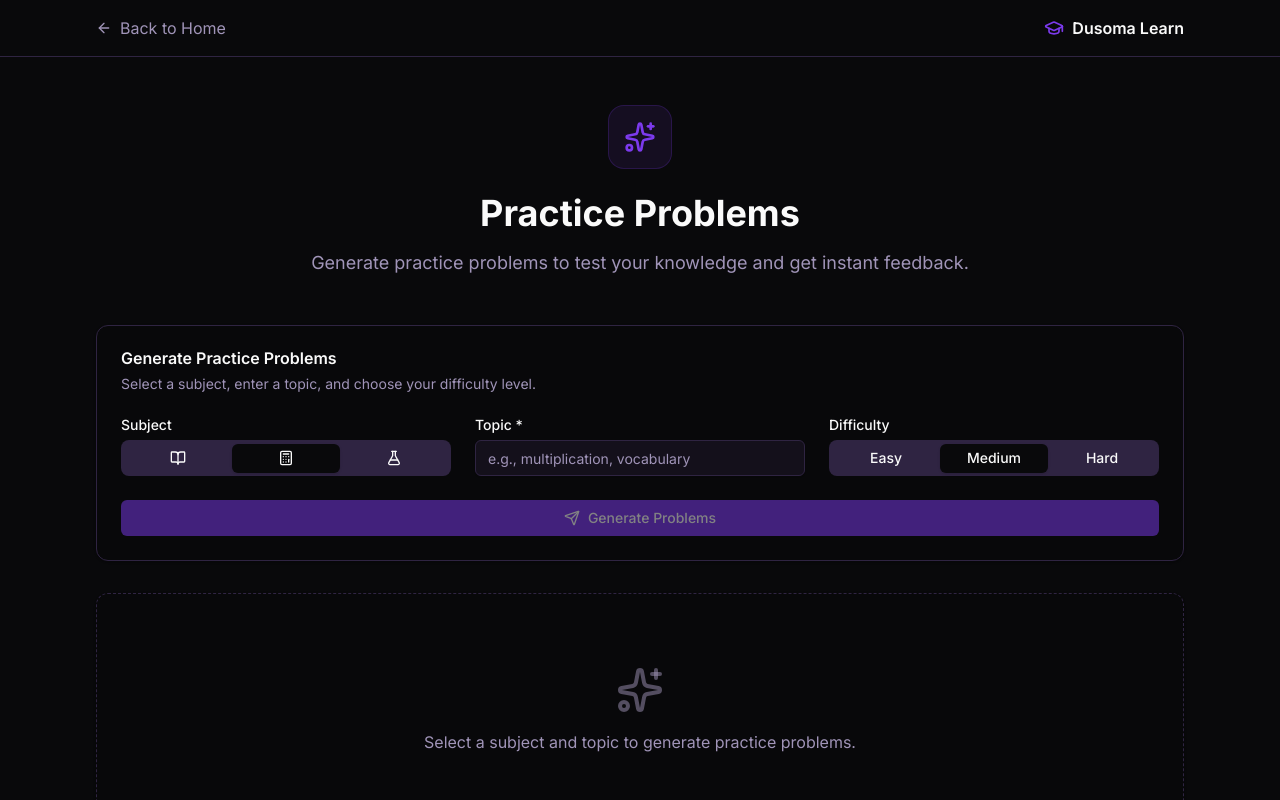
Test case: Practice Page › API Interaction › displays error message on API failure
Type "multiplication" into the field labelled "Topic *" at (640,458), box [475,440,805,476]
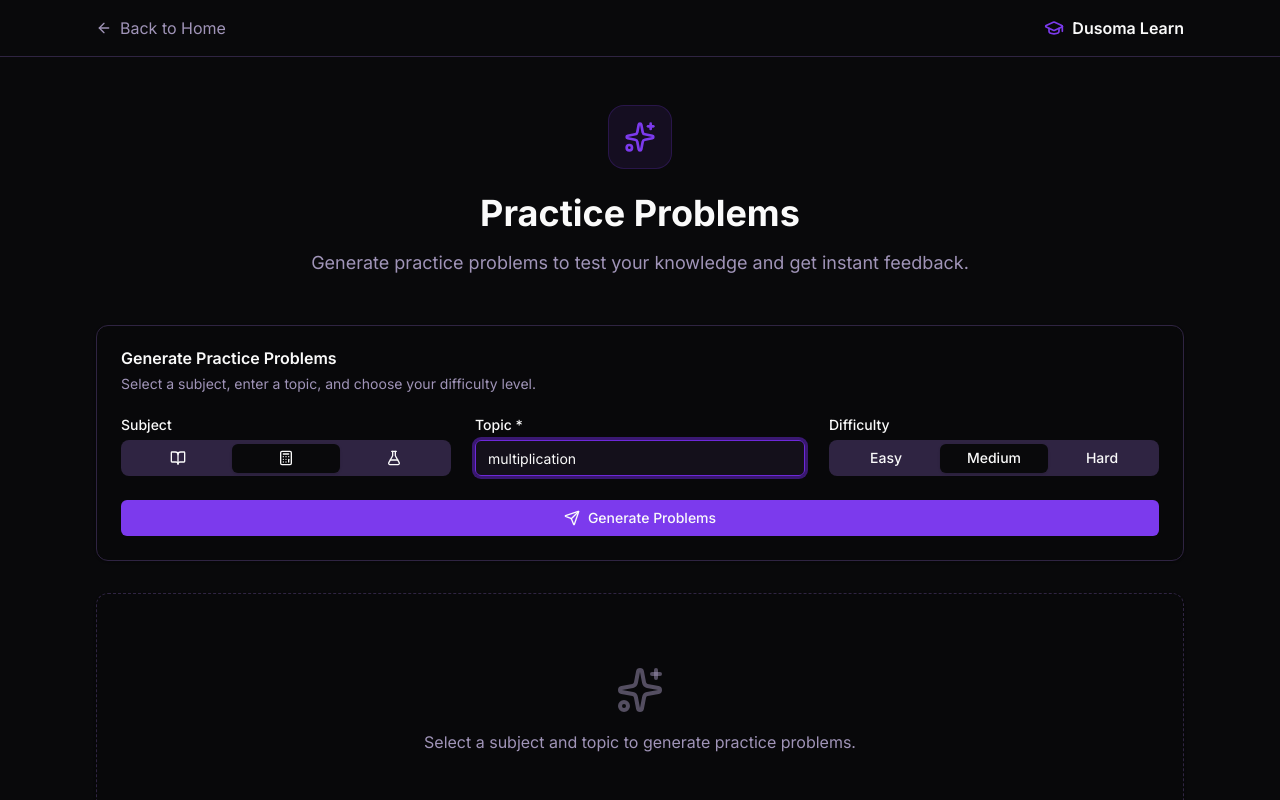
Click the button "Generate Problems" at (640,518), box [121,500,1159,536]
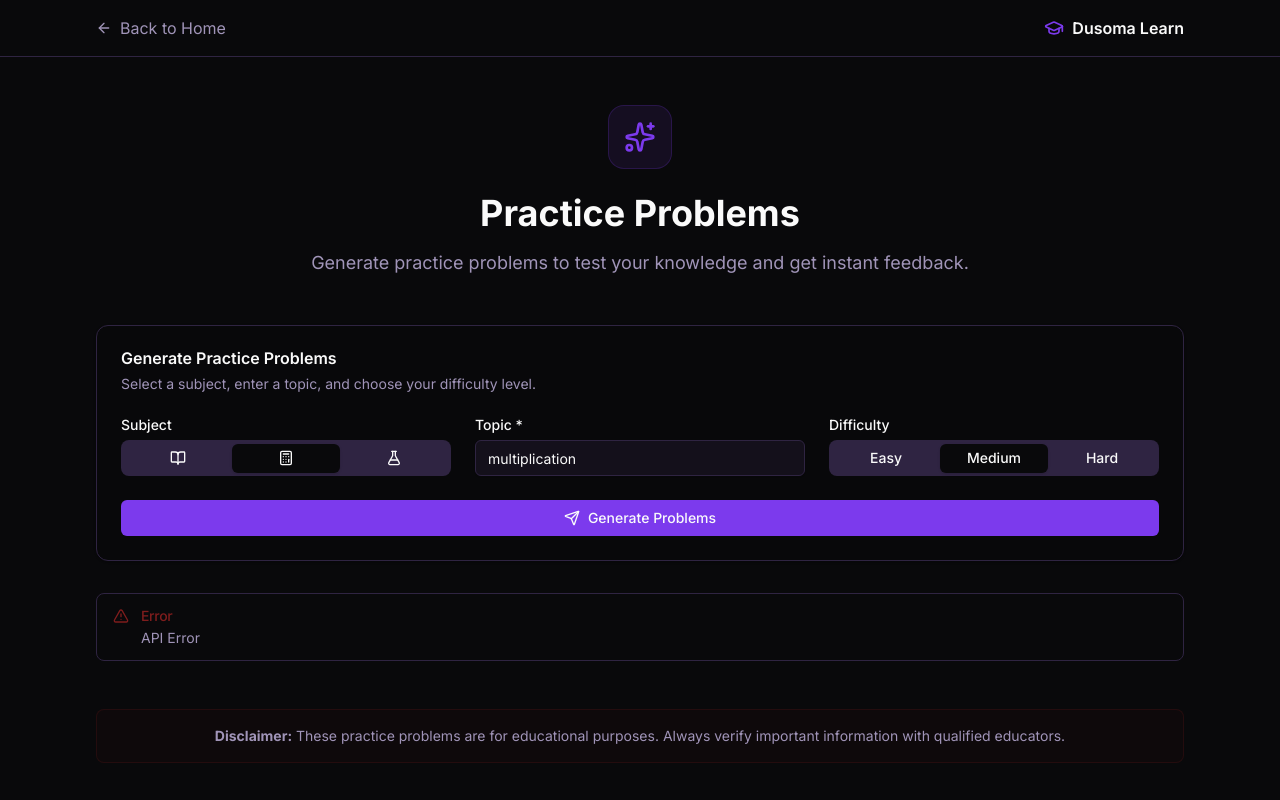
Result: the text "API Error" is shown at [141,629,200,646]
